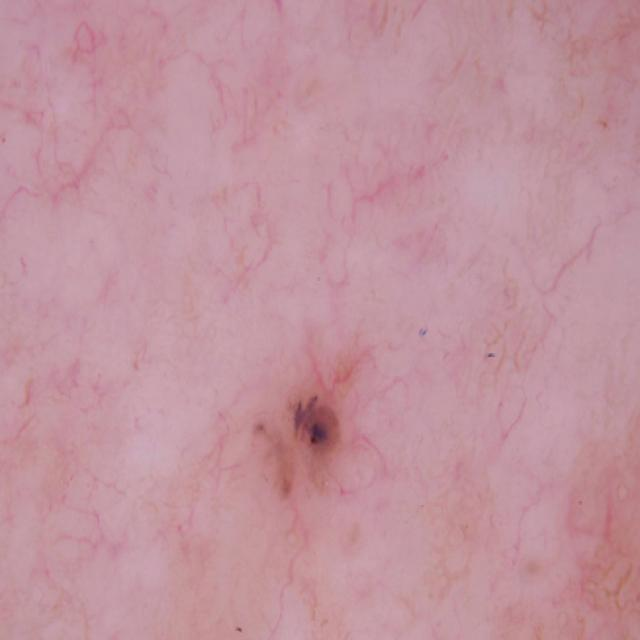Carcinoma: (222, 332, 398, 566)
